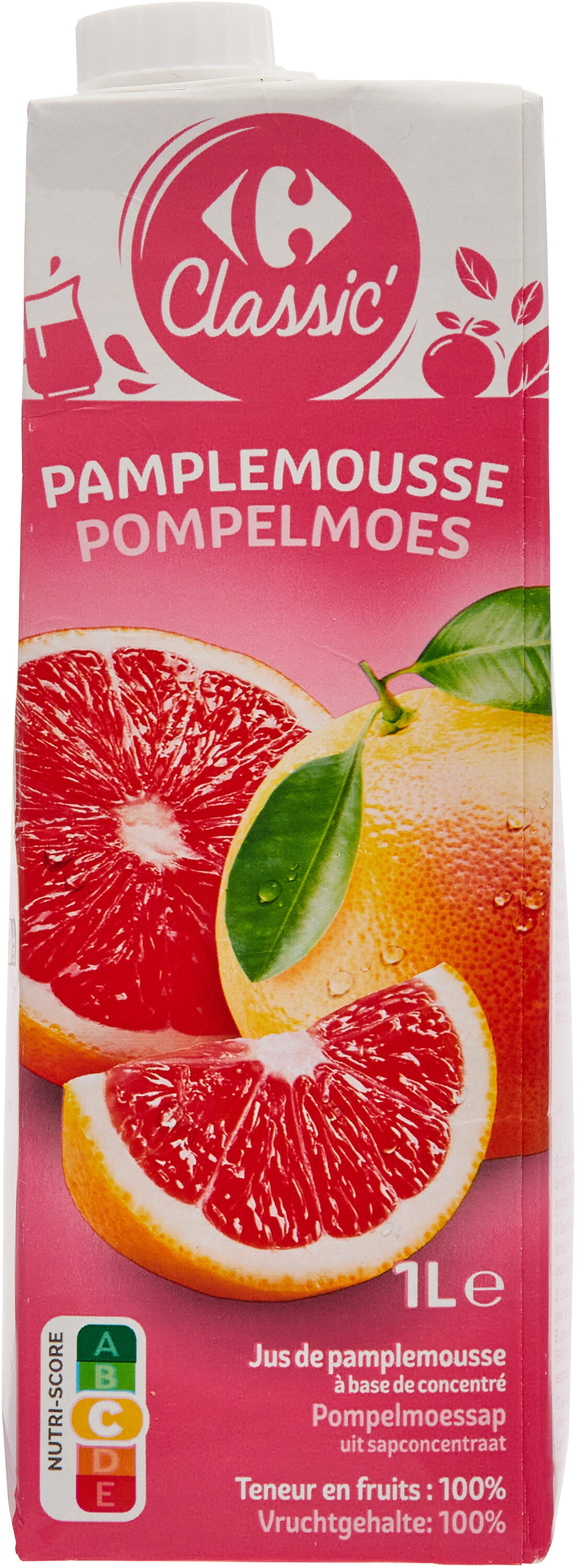Pamplemousse: (29, 78, 548, 1490)
